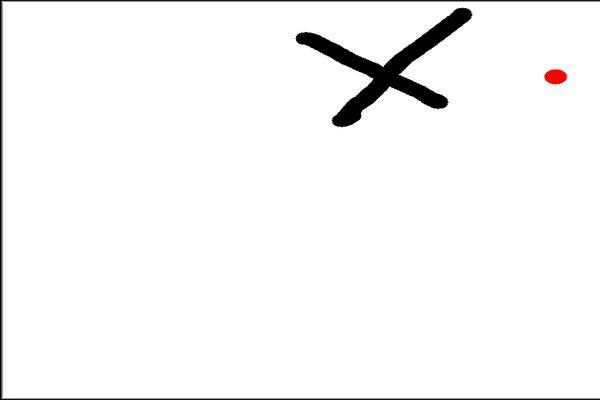X: (281, 0, 484, 147)
